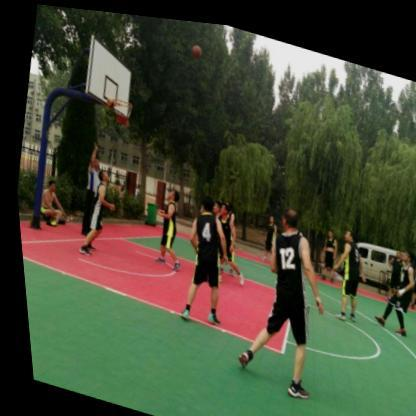basketball: (190, 39, 202, 55)
rim: (108, 95, 132, 125)
